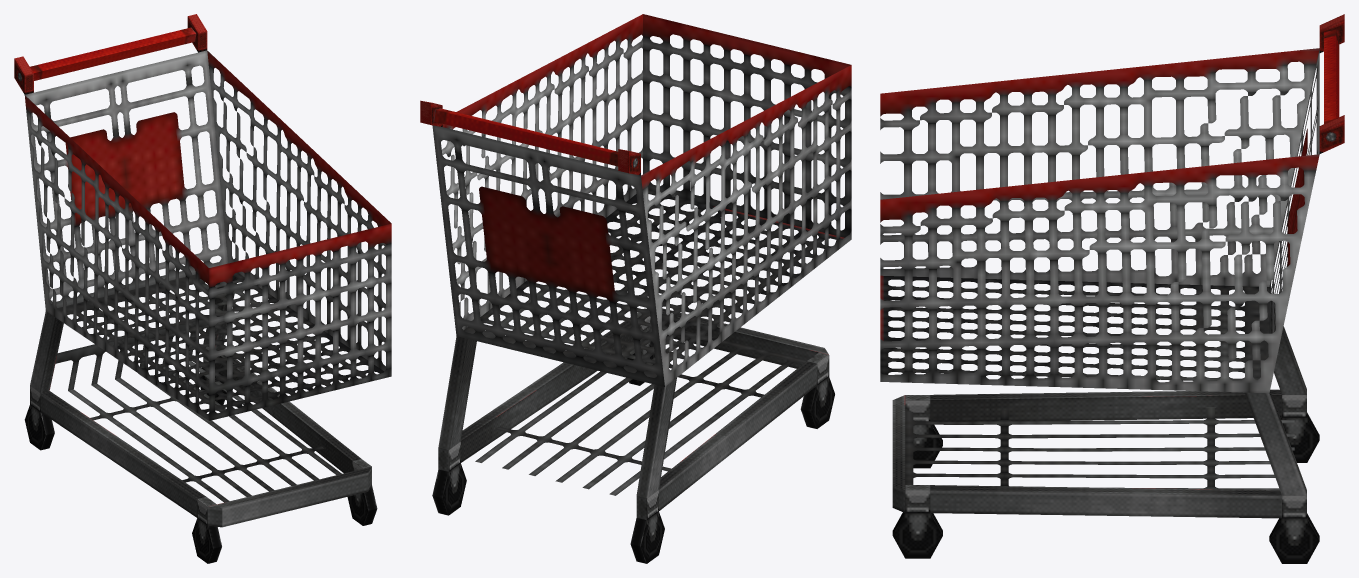
The model's file is SHOPPING_CART.fbx.
3 views of the same model, side by side, from view 1: azimuth 30°, elevation 25°; view 2: azimuth 150°, elevation 25°; view 3: azimuth 270°, elevation 25° (orthographic). The views are drawn at different scales.
Parts seen in each view (by area): view 1: Cube; view 2: Cube; view 3: Cube.
Boxes of the visible parts, <box> form: Cube: <box>14,14,391,563</box>; Cube: <box>420,14,851,563</box>; Cube: <box>880,14,1344,563</box>.
Bounding box in the file's own units: 200 × 390 × 370.
1 material, 1 textured.
